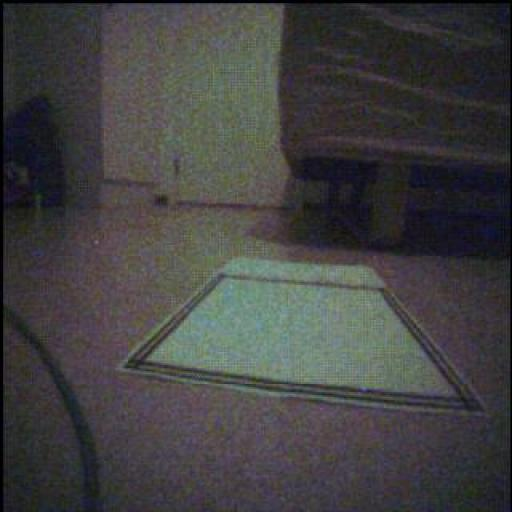pad: (121, 260, 484, 412)
